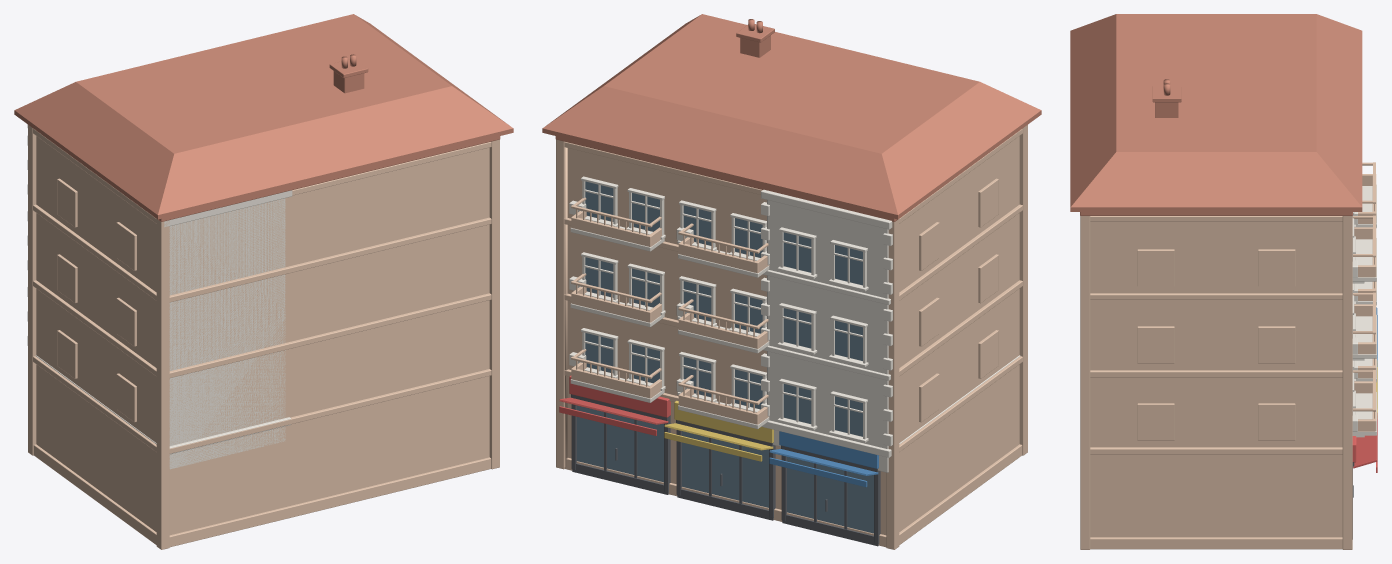
The model's file is Hamidiye_FatihCommercialBlock.fbx.
The picture shows the model from 3 angles, left to right: view 1: azimuth 30°, elevation 25°; view 2: azimuth 150°, elevation 25°; view 3: azimuth 270°, elevation 25°; orthographic projection.
Visible parts, largest first — view 1: Fatih_MainBody, Fatih_RoofParapet, Fatih_LeftWing, Fatih_Chimney; view 2: Fatih_MainBody, Fatih_RoofParapet, Fatih_LeftWing, Fatih_ShopGlass_0.0, Fatih_ShopGlass_4.5, Fatih_ShopGlass_-4.5, Fatih_SignFascia_-4.5, Fatih_SignFascia_4.5, Fatih_SignFascia_0.0, Fatih_ShopFrame_-4.5, Fatih_ShopFrame_4.5, Fatih_ShopFrame_0.0 (+49 smaller); view 3: Fatih_MainBody, Fatih_RoofParapet, Fatih_Chimney, Fatih_BalcWall_1_4.4, Fatih_BalcWall_3_4.4, Fatih_BalcWall_2_4.4, Fatih_SignFascia_4.5, Fatih_BalcSlab_1_4.4, Fatih_BalcSlab_2_4.4, Fatih_BalcSlab_3_4.4, Fatih_BalcWall_3_-0.2, Fatih_BalcSlab_3_-0.2.
Boxes of the visible parts, bbox=[...] form: Fatih_MainBody: bbox=[28, 125, 499, 549]; Fatih_RoofParapet: bbox=[14, 14, 513, 221]; Fatih_LeftWing: bbox=[27, 124, 292, 469]; Fatih_Chimney: bbox=[329, 54, 368, 93]; Fatih_MainBody: bbox=[556, 125, 1027, 549]; Fatih_RoofParapet: bbox=[542, 14, 1041, 221]; Fatih_LeftWing: bbox=[761, 189, 1020, 472]; Fatih_ShopGlass_0.0: bbox=[682, 431, 768, 507]; Fatih_ShopGlass_4.5: bbox=[577, 405, 663, 482]; Fatih_ShopGlass_-4.5: bbox=[787, 457, 873, 533]; Fatih_SignFascia_-4.5: bbox=[769, 431, 878, 487]; Fatih_SignFascia_4.5: bbox=[559, 375, 670, 435]; Fatih_SignFascia_0.0: bbox=[664, 400, 773, 461]; Fatih_ShopFrame_-4.5: bbox=[781, 445, 880, 546]; Fatih_ShopFrame_4.5: bbox=[571, 394, 670, 494]; Fatih_ShopFrame_0.0: bbox=[676, 420, 775, 520]; Fatih_MainBody: bbox=[1080, 216, 1352, 549]; Fatih_RoofParapet: bbox=[1070, 14, 1362, 215]; Fatih_Chimney: bbox=[1152, 79, 1181, 117]; Fatih_BalcWall_1_4.4: bbox=[1353, 370, 1376, 431]; Fatih_BalcWall_3_4.4: bbox=[1353, 215, 1376, 277]; Fatih_BalcWall_2_4.4: bbox=[1353, 292, 1376, 354]; Fatih_SignFascia_4.5: bbox=[1352, 413, 1377, 472]; Fatih_BalcSlab_1_4.4: bbox=[1352, 392, 1376, 437]; Fatih_BalcSlab_2_4.4: bbox=[1352, 315, 1376, 360]; Fatih_BalcSlab_3_4.4: bbox=[1352, 238, 1376, 283]; Fatih_BalcWall_3_-0.2: bbox=[1358, 162, 1376, 223]; Fatih_BalcSlab_3_-0.2: bbox=[1353, 184, 1376, 227].
Bounding box in the file's own units: 15.24 × 16.63 × 11.19.
